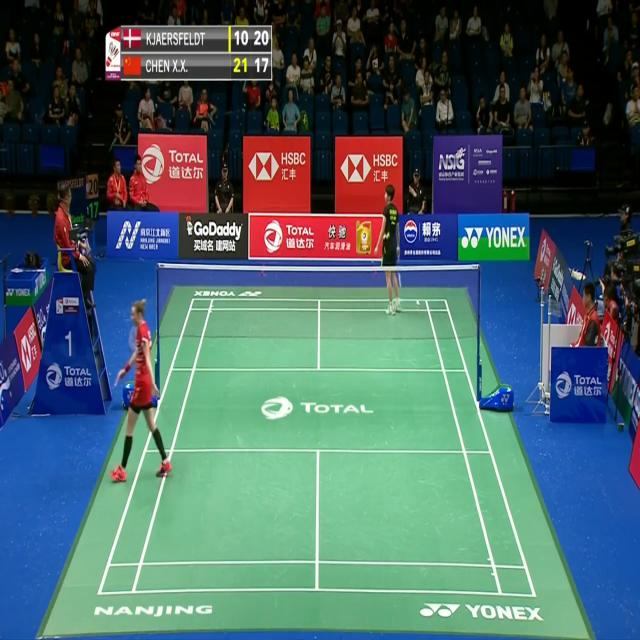Player1: (109, 285, 173, 489)
Player2: (369, 180, 408, 316)
